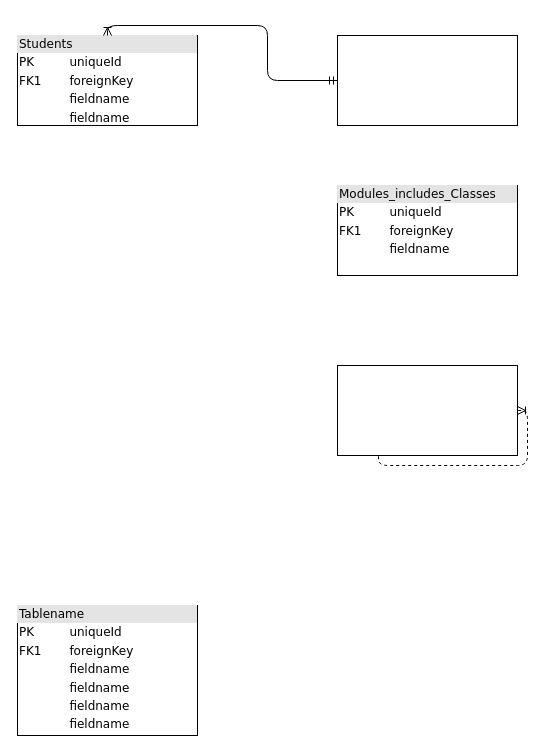
The diagram is 554 pixels wide and 753 high, and some of its shapes have lost their labels. The box of each missing label's shape, as (x1, y1, x2, y2) in pixels:
Classes PK uniqueId FK1 foreignKey fieldname: (336, 34, 518, 126)
Tablename PK uniqueId FK1 foreignKey fieldname fieldname: (336, 364, 518, 456)
